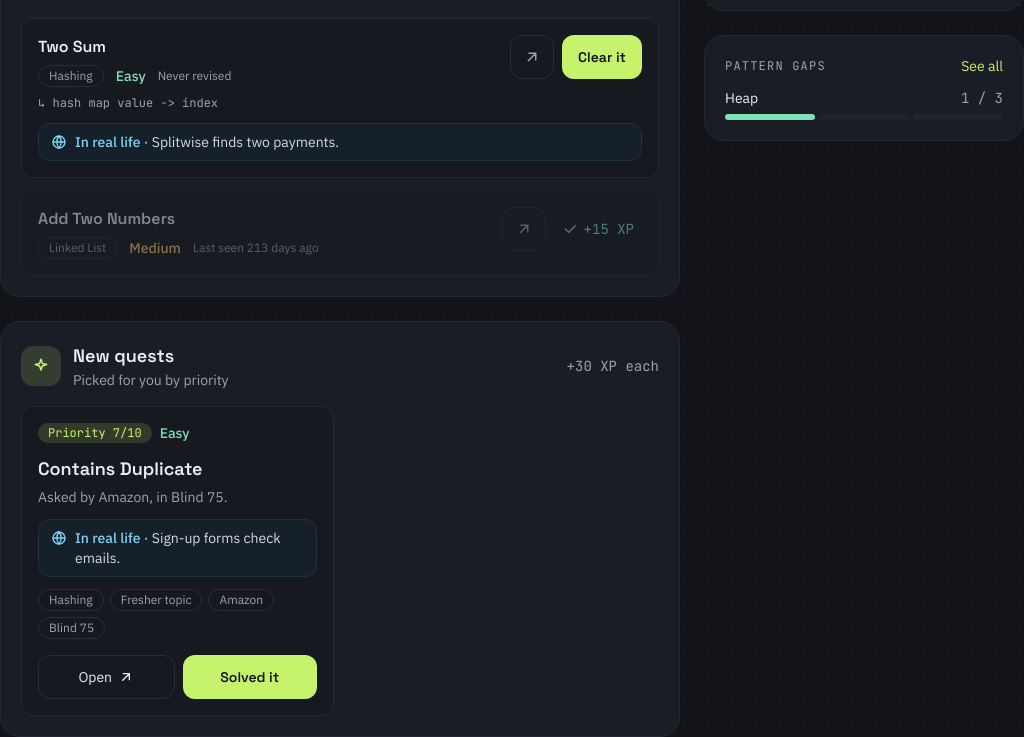
it: Today page › "Solved it" adds the problem, marks it done as new, and shows new badges
The image size is (1024, 737).
(page scrolled)
Click the button "Solved it" at (250, 677), box [182,655,317,699]
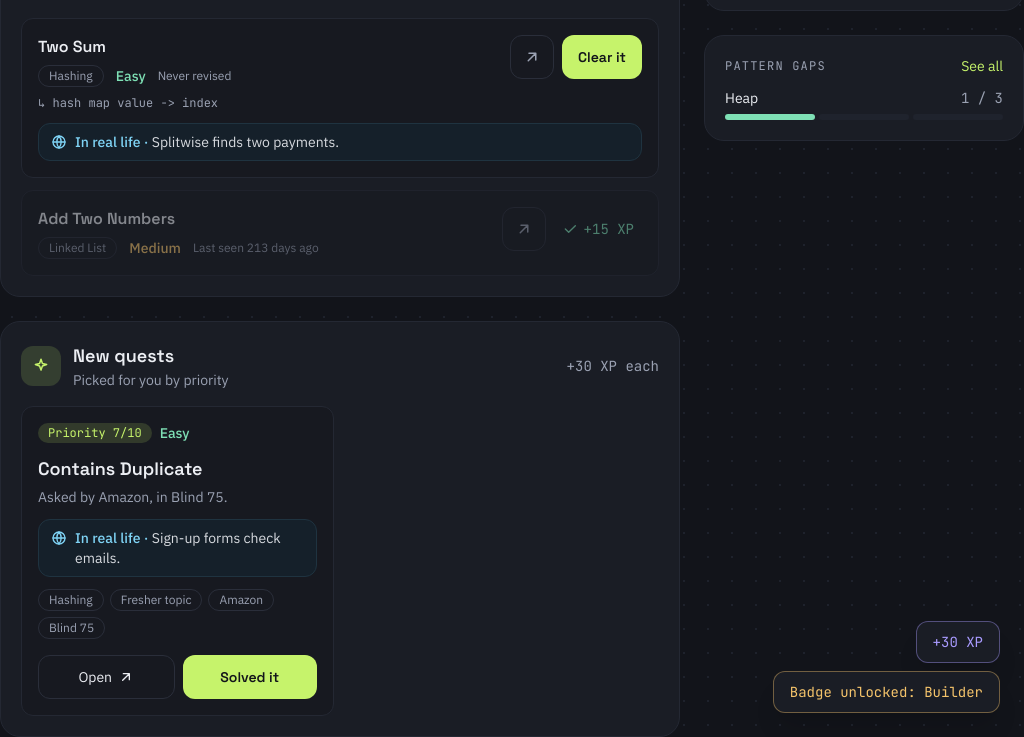
Expected: the button "+30 XP" is shown, [916,621,1000,663]
Expected: the button "Badge unlocked: Builder" is shown, [773,671,1000,713]
